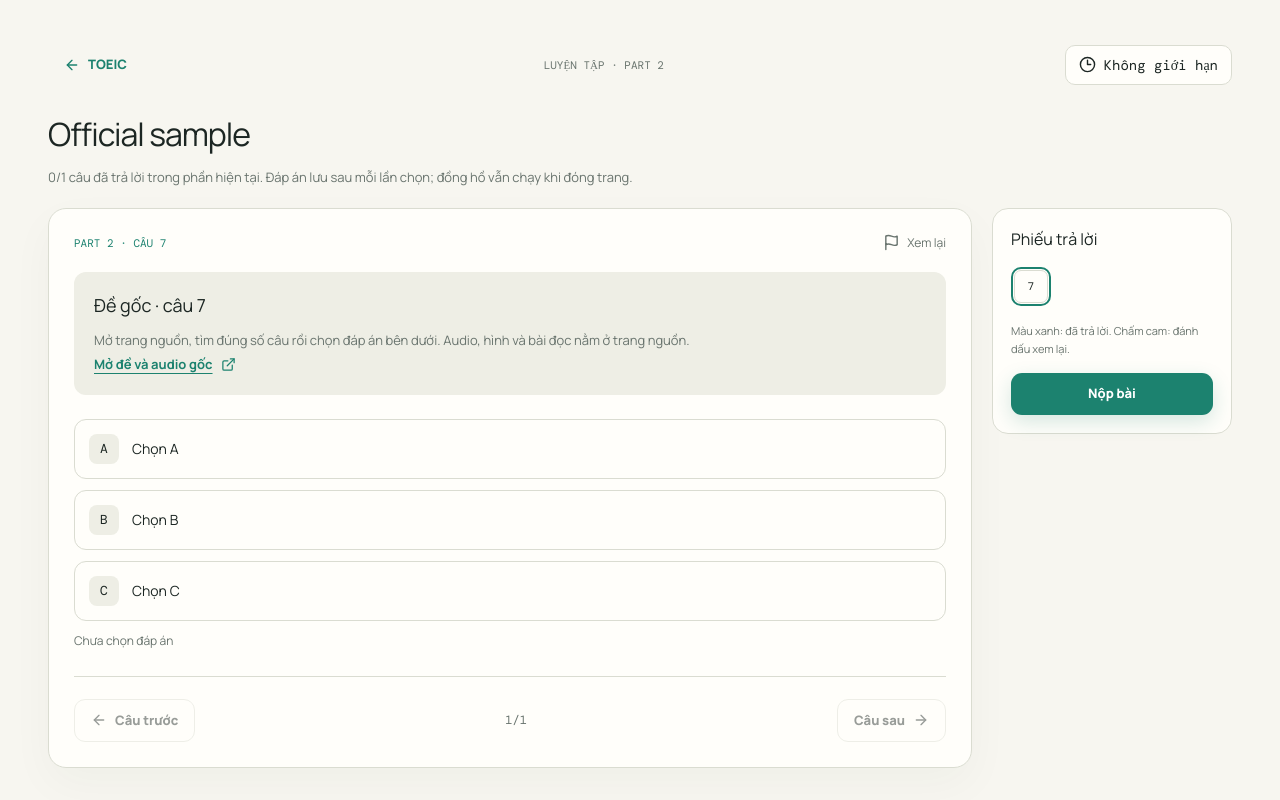
it: shows a save failure without claiming that the new choice was saved
Click the button "A Chọn A": (155, 449) [74,419,946,479]
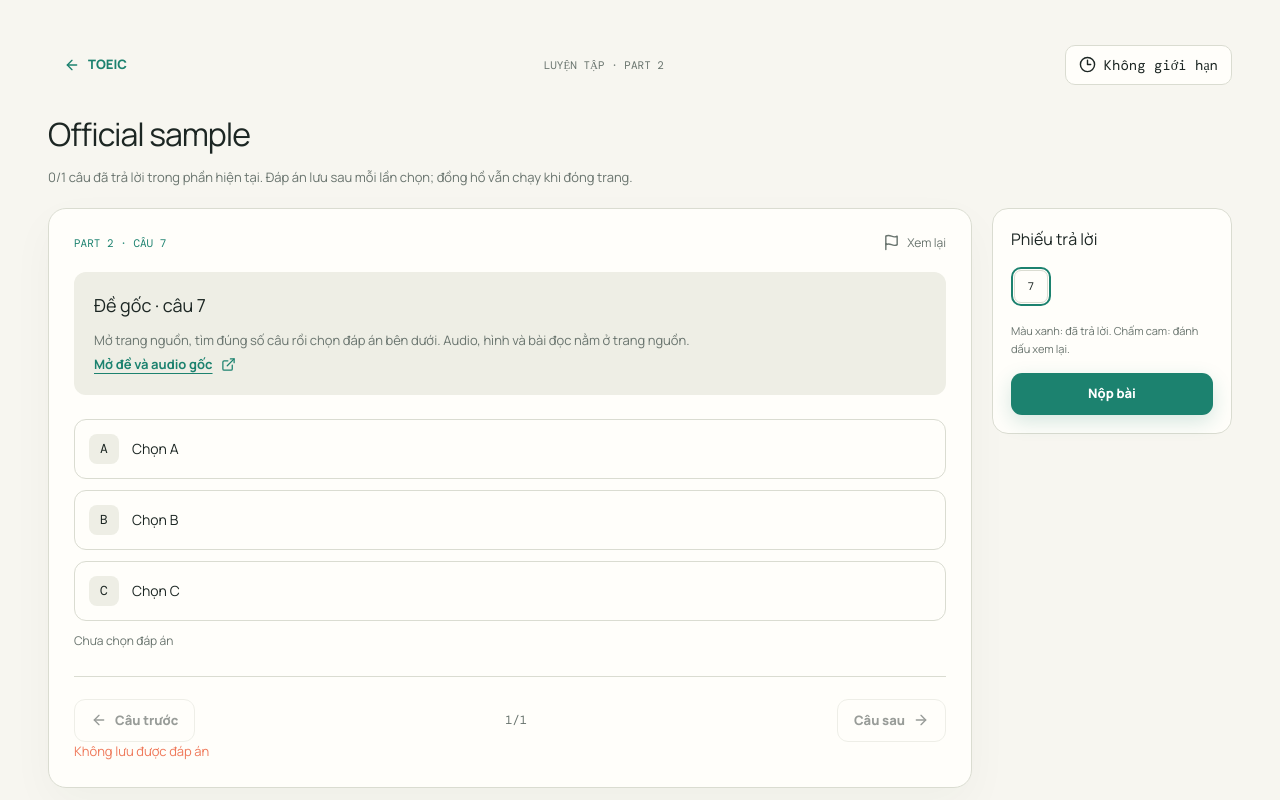
Expected: the text "Chưa chọn đáp án" is shown, [74,632,173,649]
Expected: the message "Không lưu được đáp án" is shown, [74,742,209,760]
